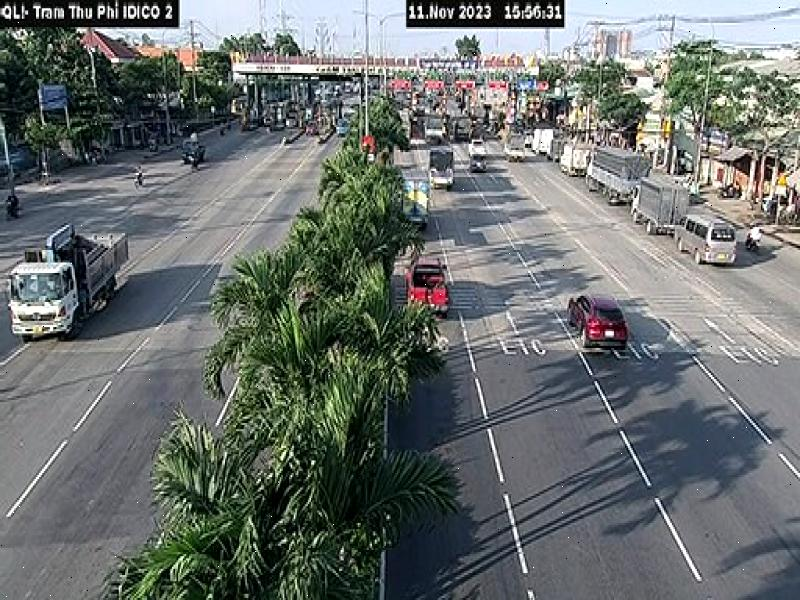truck: (7, 222, 129, 341), (631, 169, 688, 239), (586, 142, 646, 205), (432, 149, 458, 189)
